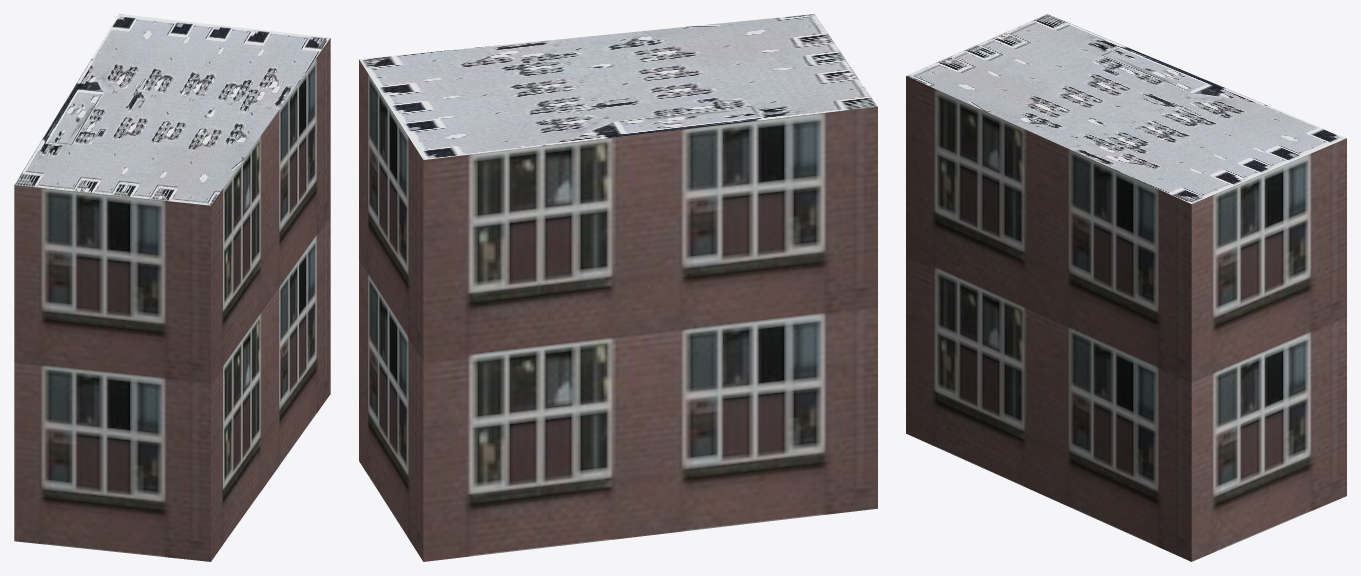
The model's file is ResTex__4750.fbx.
3 views of the same model, side by side, from view 1: azimuth 30°, elevation 25°; view 2: azimuth 150°, elevation 25°; view 3: azimuth 270°, elevation 25° (orthographic). The views are drawn at different scales.
Parts seen in each view (by area): view 1: CityEngineMaterial_12_m, CityEngineMaterial_8_m; view 2: CityEngineMaterial_12_m, CityEngineMaterial_8_m; view 3: CityEngineMaterial_12_m, CityEngineMaterial_8_m.
Boxes of the visible parts, left/top/right/bottom form: CityEngineMaterial_12_m: left=14, top=38, right=330, bottom=561; CityEngineMaterial_8_m: left=14, top=14, right=330, bottom=205; CityEngineMaterial_12_m: left=359, top=59, right=877, bottom=561; CityEngineMaterial_8_m: left=359, top=14, right=877, bottom=159; CityEngineMaterial_12_m: left=906, top=76, right=1346, bottom=561; CityEngineMaterial_8_m: left=906, top=14, right=1346, bottom=203.
Size of the model in its own units: 6.84 by 6 by 6.7.
2 materials, 2 textured.
